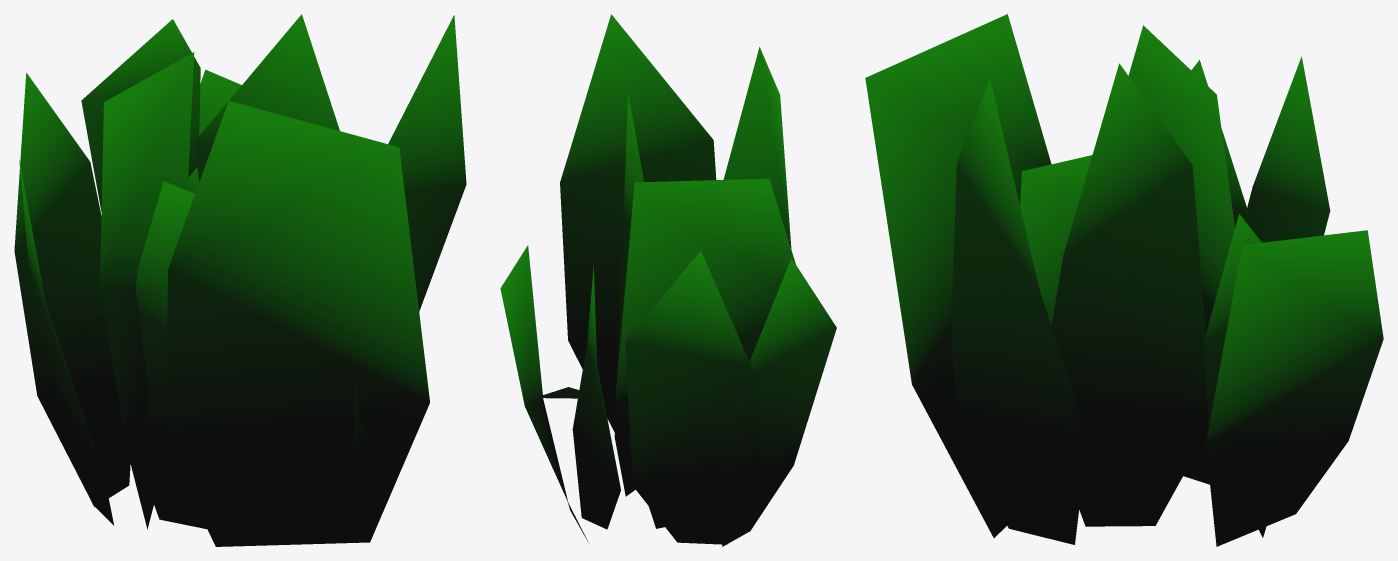
The model's file is Cardinal_2.fbx.
The picture shows the model from 3 angles, left to right: view 1: azimuth 30°, elevation 25°; view 2: azimuth 150°, elevation 25°; view 3: azimuth 270°, elevation 25°; orthographic projection. The views are drawn at different scales.
Parts seen in each view (by area): view 1: Cardinal_2; view 2: Cardinal_2; view 3: Cardinal_2.
Boxes of the visible parts, x1,y1,x2,y2 form: Cardinal_2: (14,14,466,546); Cardinal_2: (500,14,836,546); Cardinal_2: (865,14,1383,546).
Bounding box in the file's own units: 28.88 × 37.11 × 34.75.
